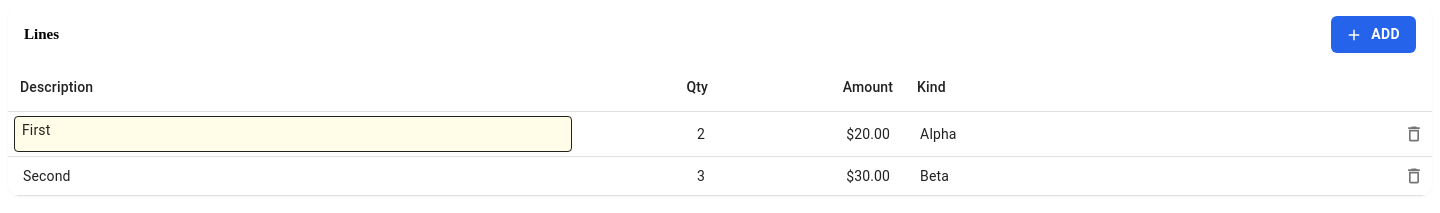
ChildRowsGrid › Escape reverts the cell and saves nothing
Type " typo" into the text box at coordinates (293, 134), box x1=14 y1=116 x2=572 y2=152
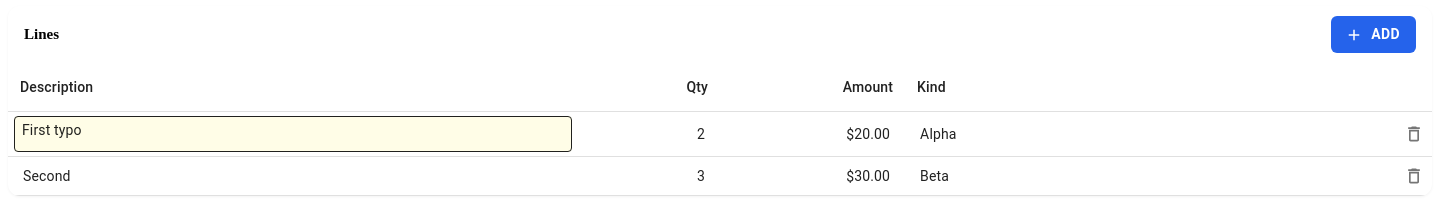
Press Escape
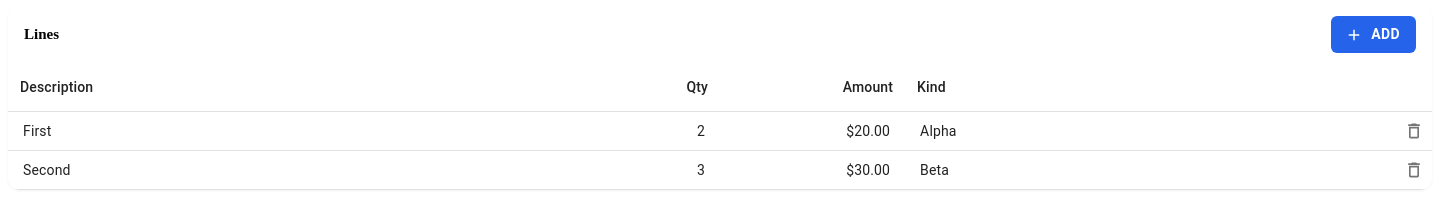
Now the text "First" is shown, box x1=23 y1=123 x2=52 y2=139
